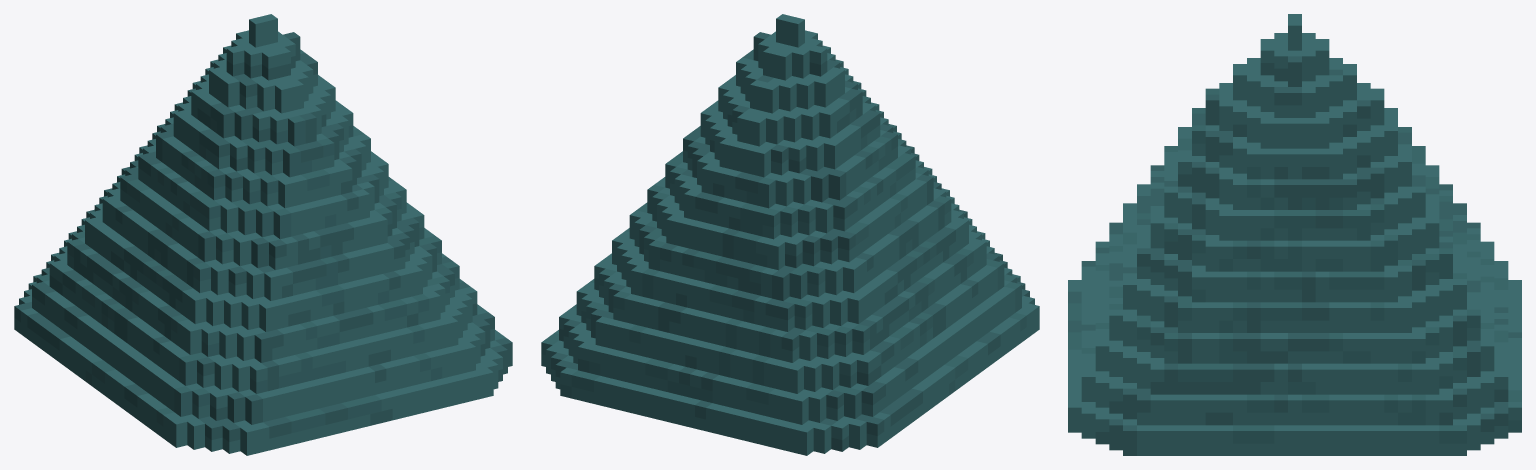
File: MiddleAgesHoume12-0.obj
3 views of the same model, side by side, from view 1: azimuth 30°, elevation 25°; view 2: azimuth 150°, elevation 25°; view 3: azimuth 270°, elevation 25° (orthographic). The views are drawn at different scales.
Size of the model in its own units: 3 by 2.8 by 3.3.
1 material, 1 textured.
